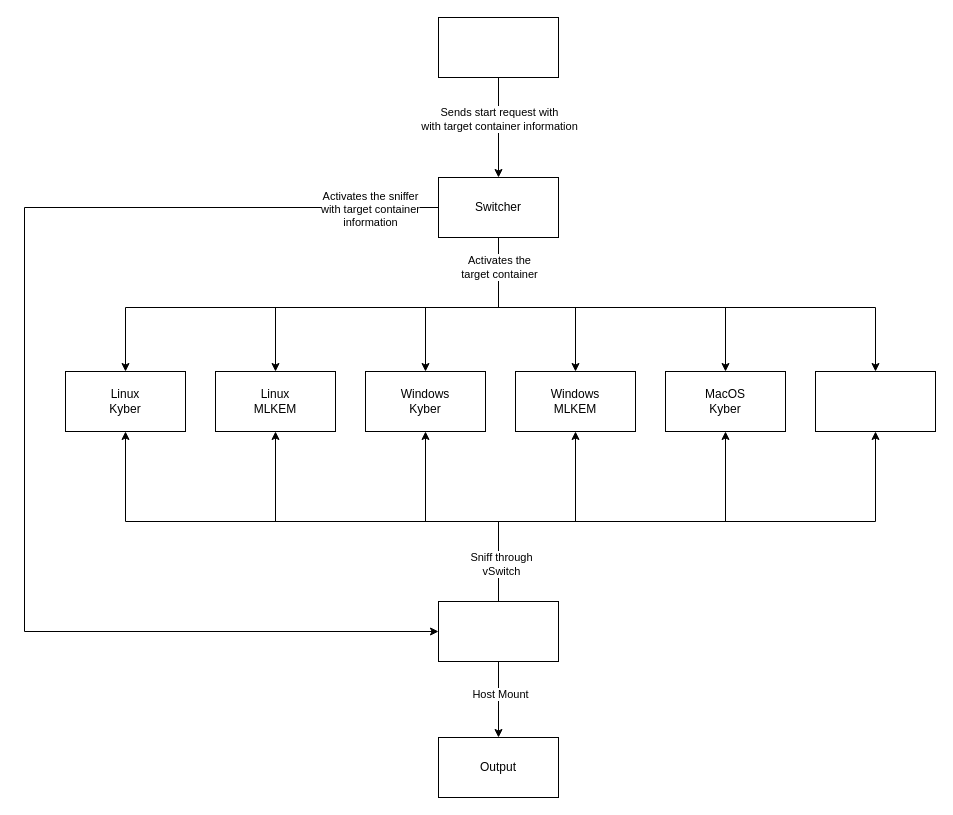
This 953x815 diagram has some shape labels left out. The shapes that lost their labels are listed below. From the top down, each one's box as (x1, y1, x2, y2) in pixels, then its label:
(438, 16, 558, 78): Agent
(814, 370, 936, 432): MacOS MLKEM
(438, 600, 558, 662): Sniffer
